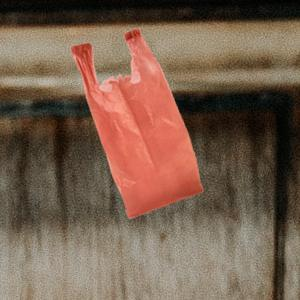plastic_bag: (68, 25, 206, 221)
